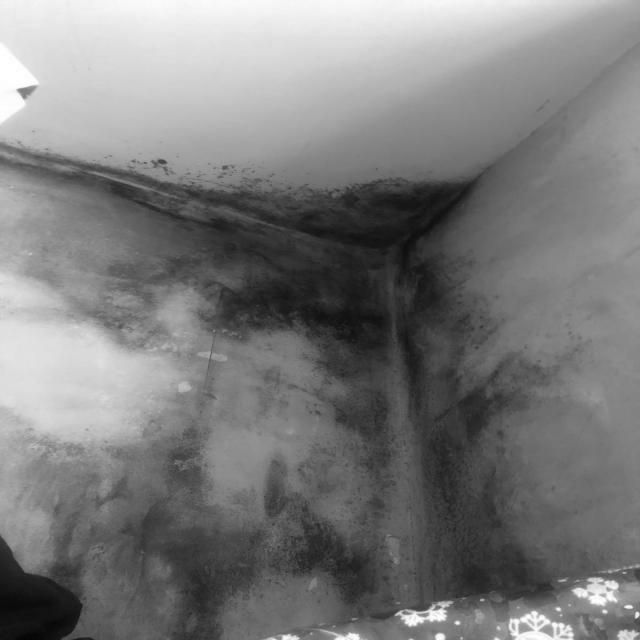stain marks: (0, 104, 591, 625)
